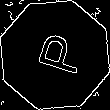P_W: (25, 29, 85, 81)
